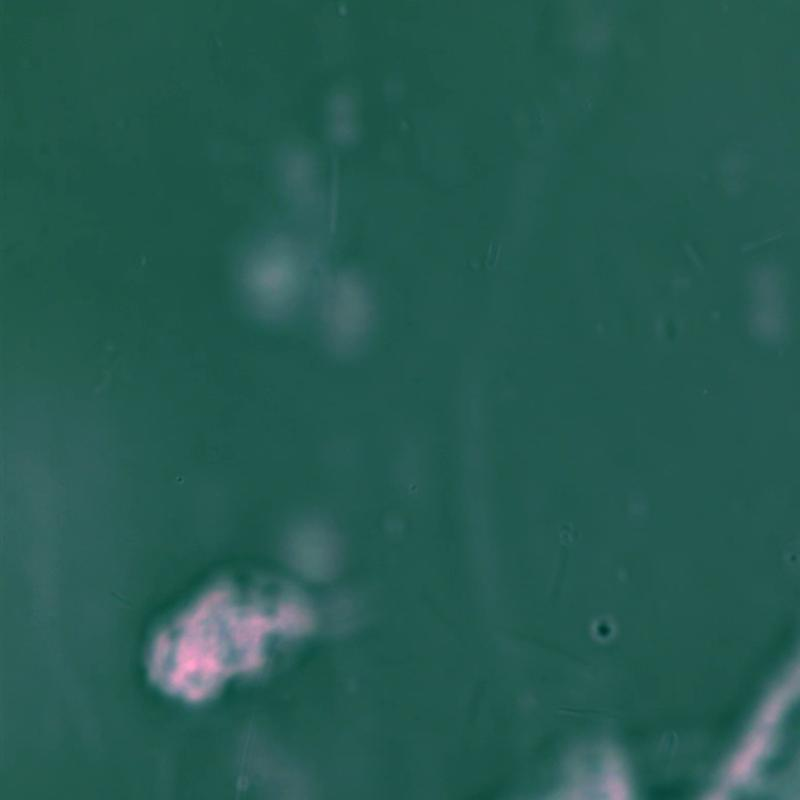depth:100: (104, 553, 431, 713)
